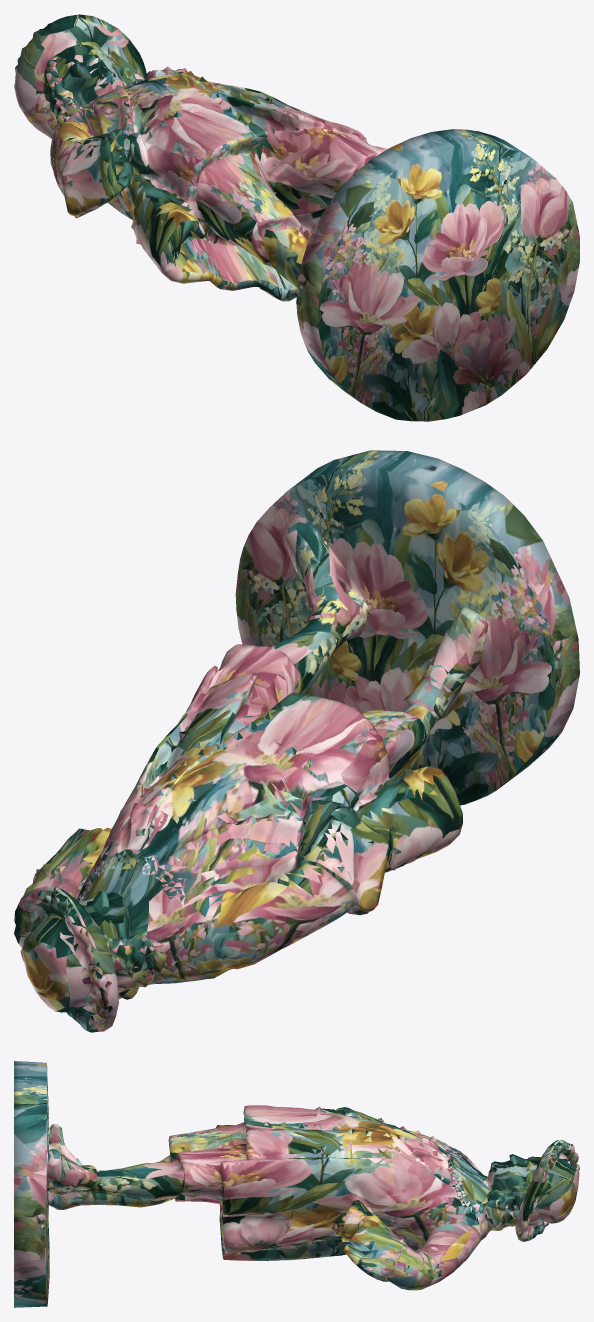
Rendered from tds_leroux.glb.
The picture shows the model from 3 angles, top to bottom: view 1: azimuth 30°, elevation 25°; view 2: azimuth 150°, elevation 25°; view 3: azimuth 270°, elevation 25°; orthographic projection. The views are drawn at different scales.
Parts seen in each view (by area): view 1: A; view 2: A; view 3: A.
Boxes of the visible parts, x1,y1,x2,y2 form: A: [14, 14, 579, 421]; A: [14, 450, 579, 1032]; A: [14, 1061, 579, 1307].
Bounding box in the file's own units: 1.01 × 0.8615 × 2.
Materials: 1 (1 with a texture image).
